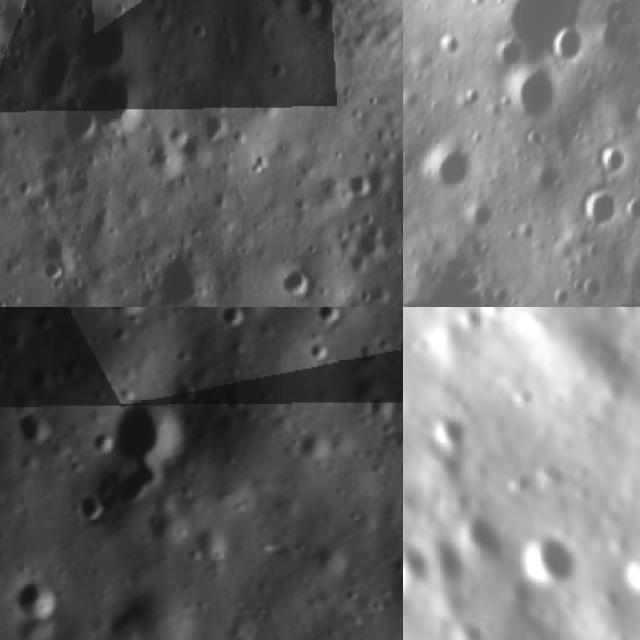crater: (501, 520, 592, 610), (403, 245, 527, 307), (100, 388, 194, 459), (72, 0, 145, 77), (409, 404, 484, 478), (497, 55, 569, 130), (448, 506, 518, 579), (81, 70, 148, 138), (150, 247, 217, 307), (403, 530, 449, 616), (408, 140, 474, 198), (109, 460, 174, 510), (568, 181, 624, 229), (8, 576, 64, 621), (544, 16, 588, 70), (590, 133, 630, 182), (615, 542, 640, 611), (292, 429, 334, 466), (462, 192, 500, 232), (365, 387, 403, 427), (276, 268, 318, 304), (0, 4, 37, 44), (17, 410, 54, 450), (197, 110, 235, 148), (68, 490, 102, 529), (344, 174, 376, 211), (22, 362, 56, 395), (300, 336, 334, 369), (305, 307, 349, 331), (213, 307, 248, 335), (617, 185, 640, 227), (627, 53, 640, 111), (97, 307, 150, 320), (388, 179, 403, 220), (393, 481, 403, 524), (389, 333, 403, 362)
